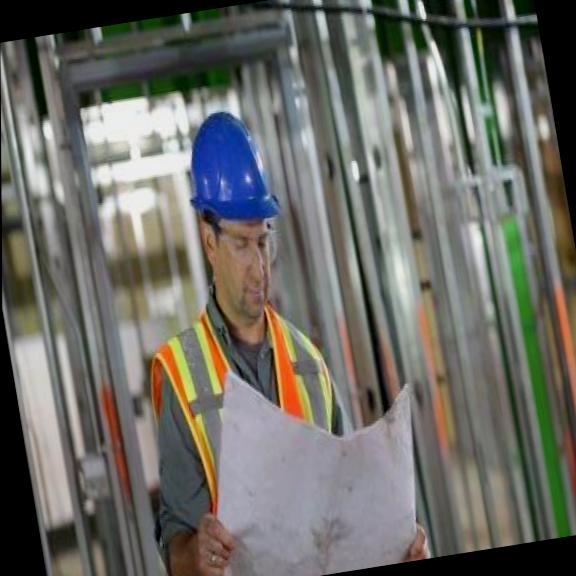safety_vest: (145, 296, 355, 546)
